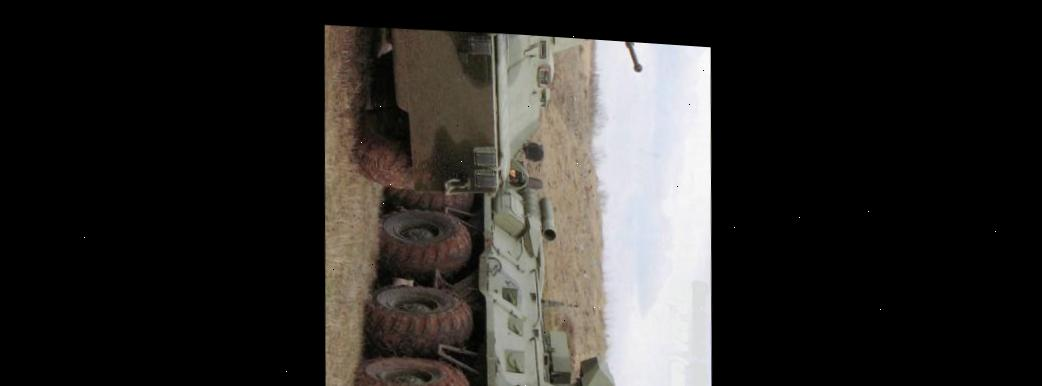tank: (340, 145, 633, 386), (326, 22, 647, 212)
